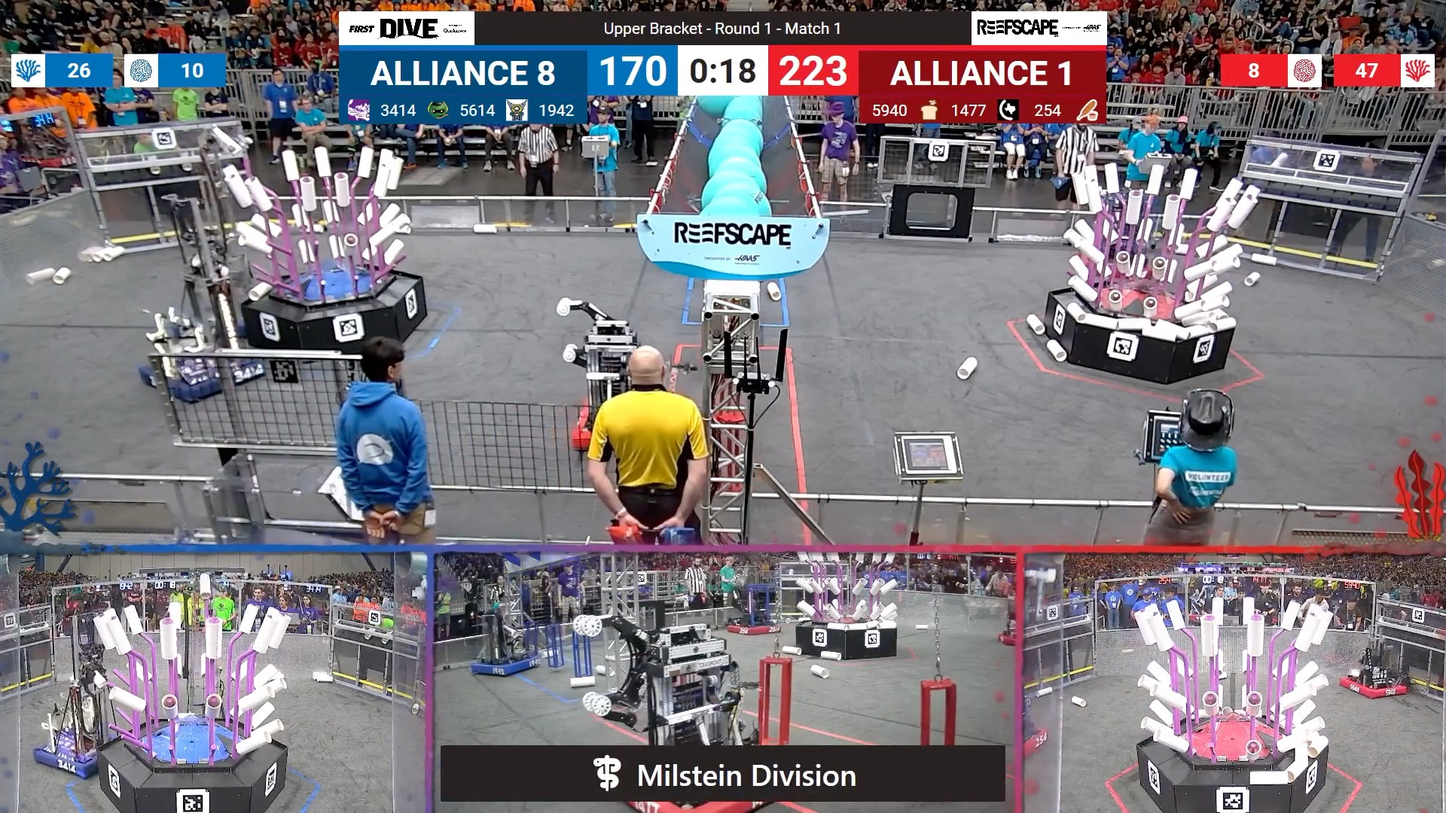bumpers: (136, 348, 278, 400), (31, 731, 124, 777), (1332, 673, 1412, 703), (464, 654, 541, 680), (1024, 716, 1053, 762), (725, 616, 781, 638), (577, 392, 592, 450)
